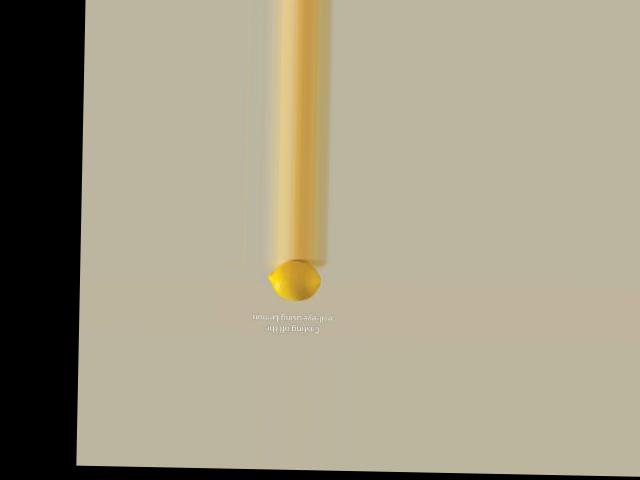lemon: (267, 262, 322, 303)
